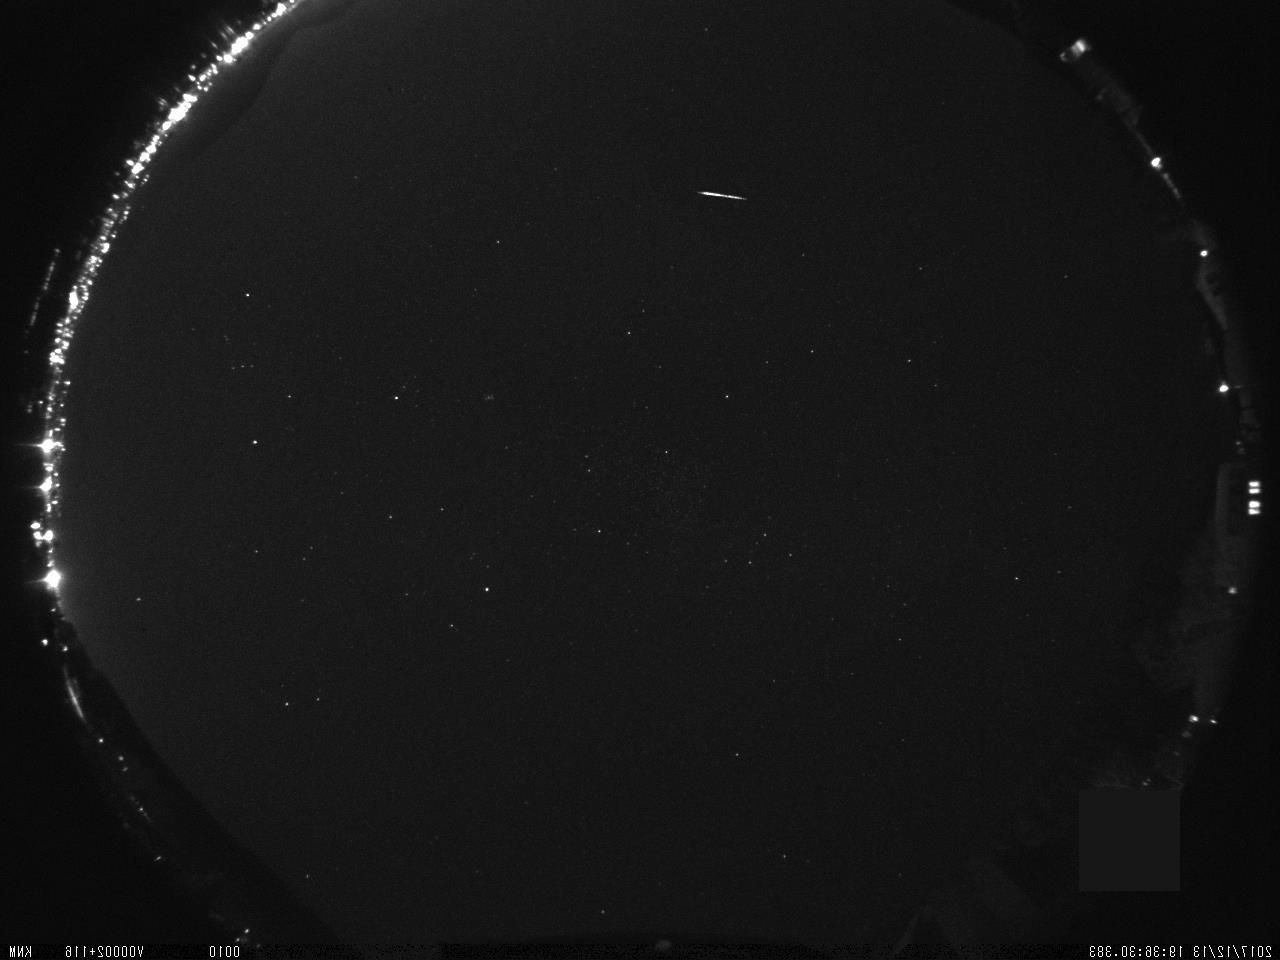meteor: (689, 179, 761, 211)
